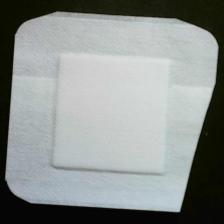Cut: (6, 9, 221, 214)
